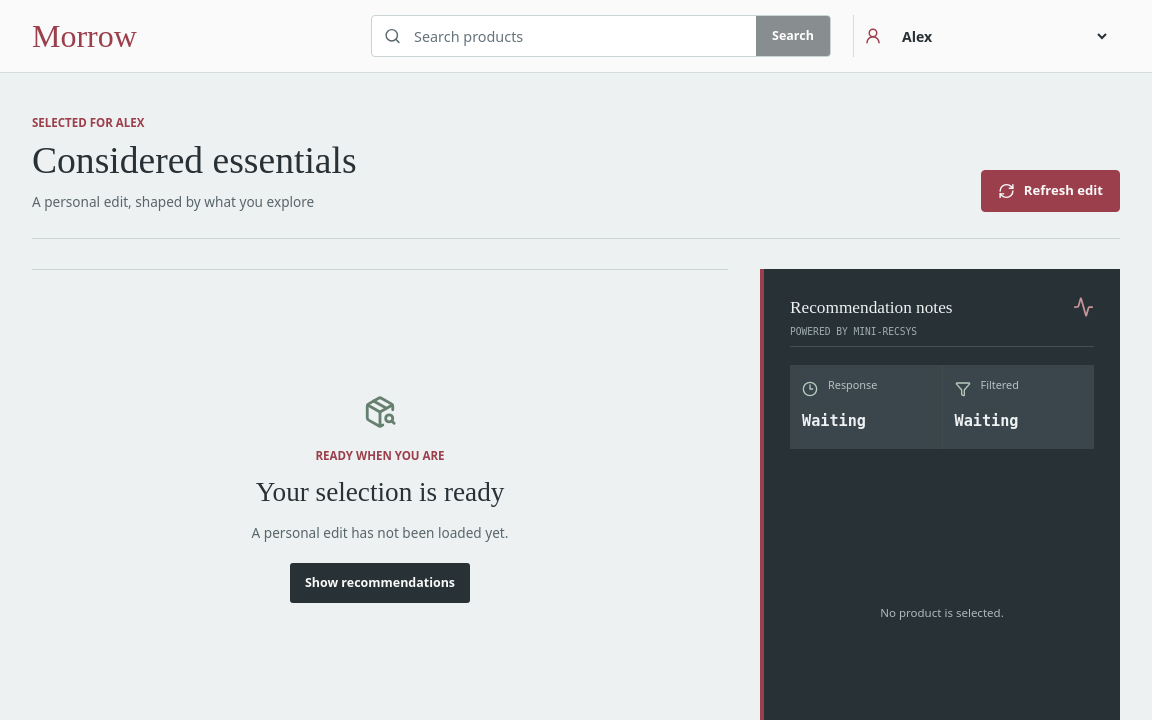
Test: Morrow storefront › shows actionable request errors
Click the button with aria-label "refresh recommendations": (1050, 191) [981,170,1120,212]
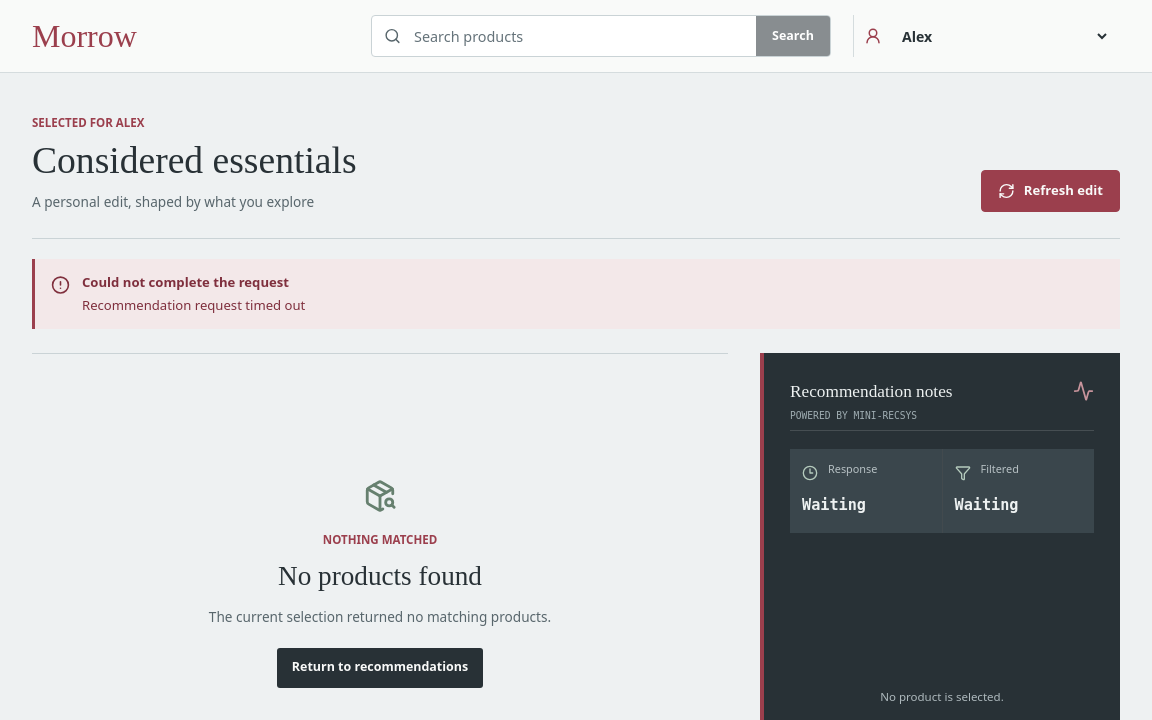
expect the message shows "Recommendation request timed out": met, box [82,296,305,314]
